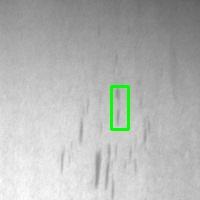inclusion: (92, 137, 123, 198), (57, 112, 87, 173), (111, 86, 128, 129)
